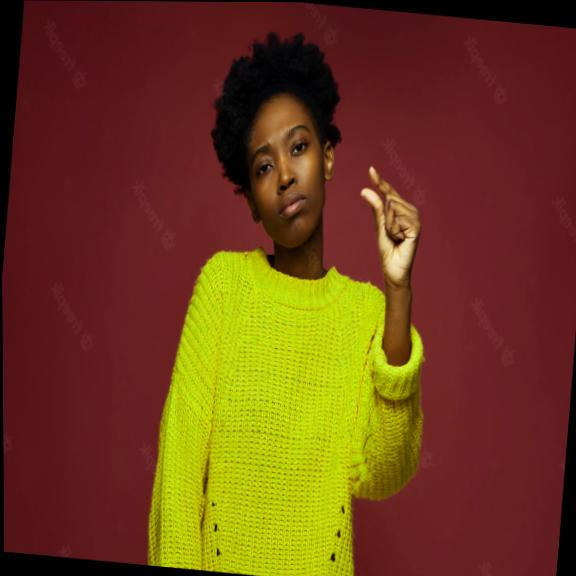no_safety_vest: (167, 242, 390, 576)
